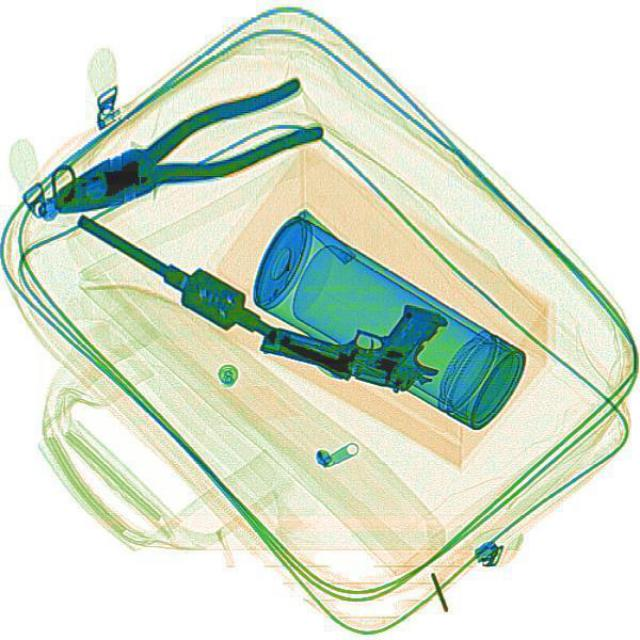Gun: (254, 269, 456, 403)
Pliers: (38, 69, 328, 237)
